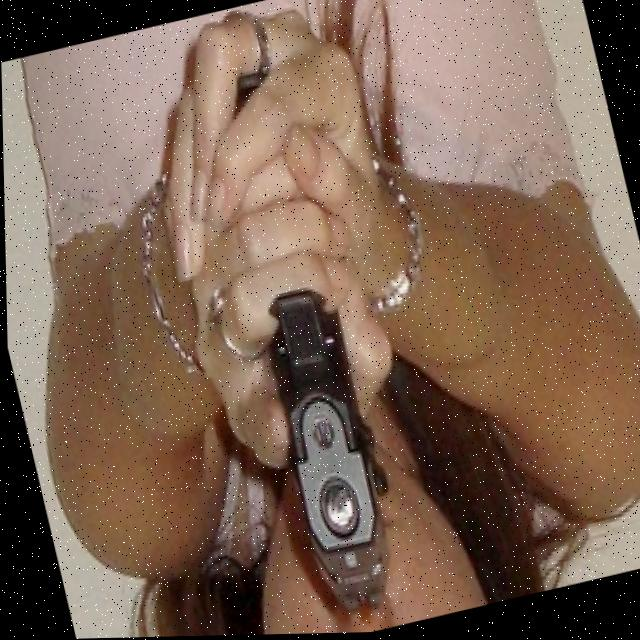pistol: (246, 279, 413, 624)
